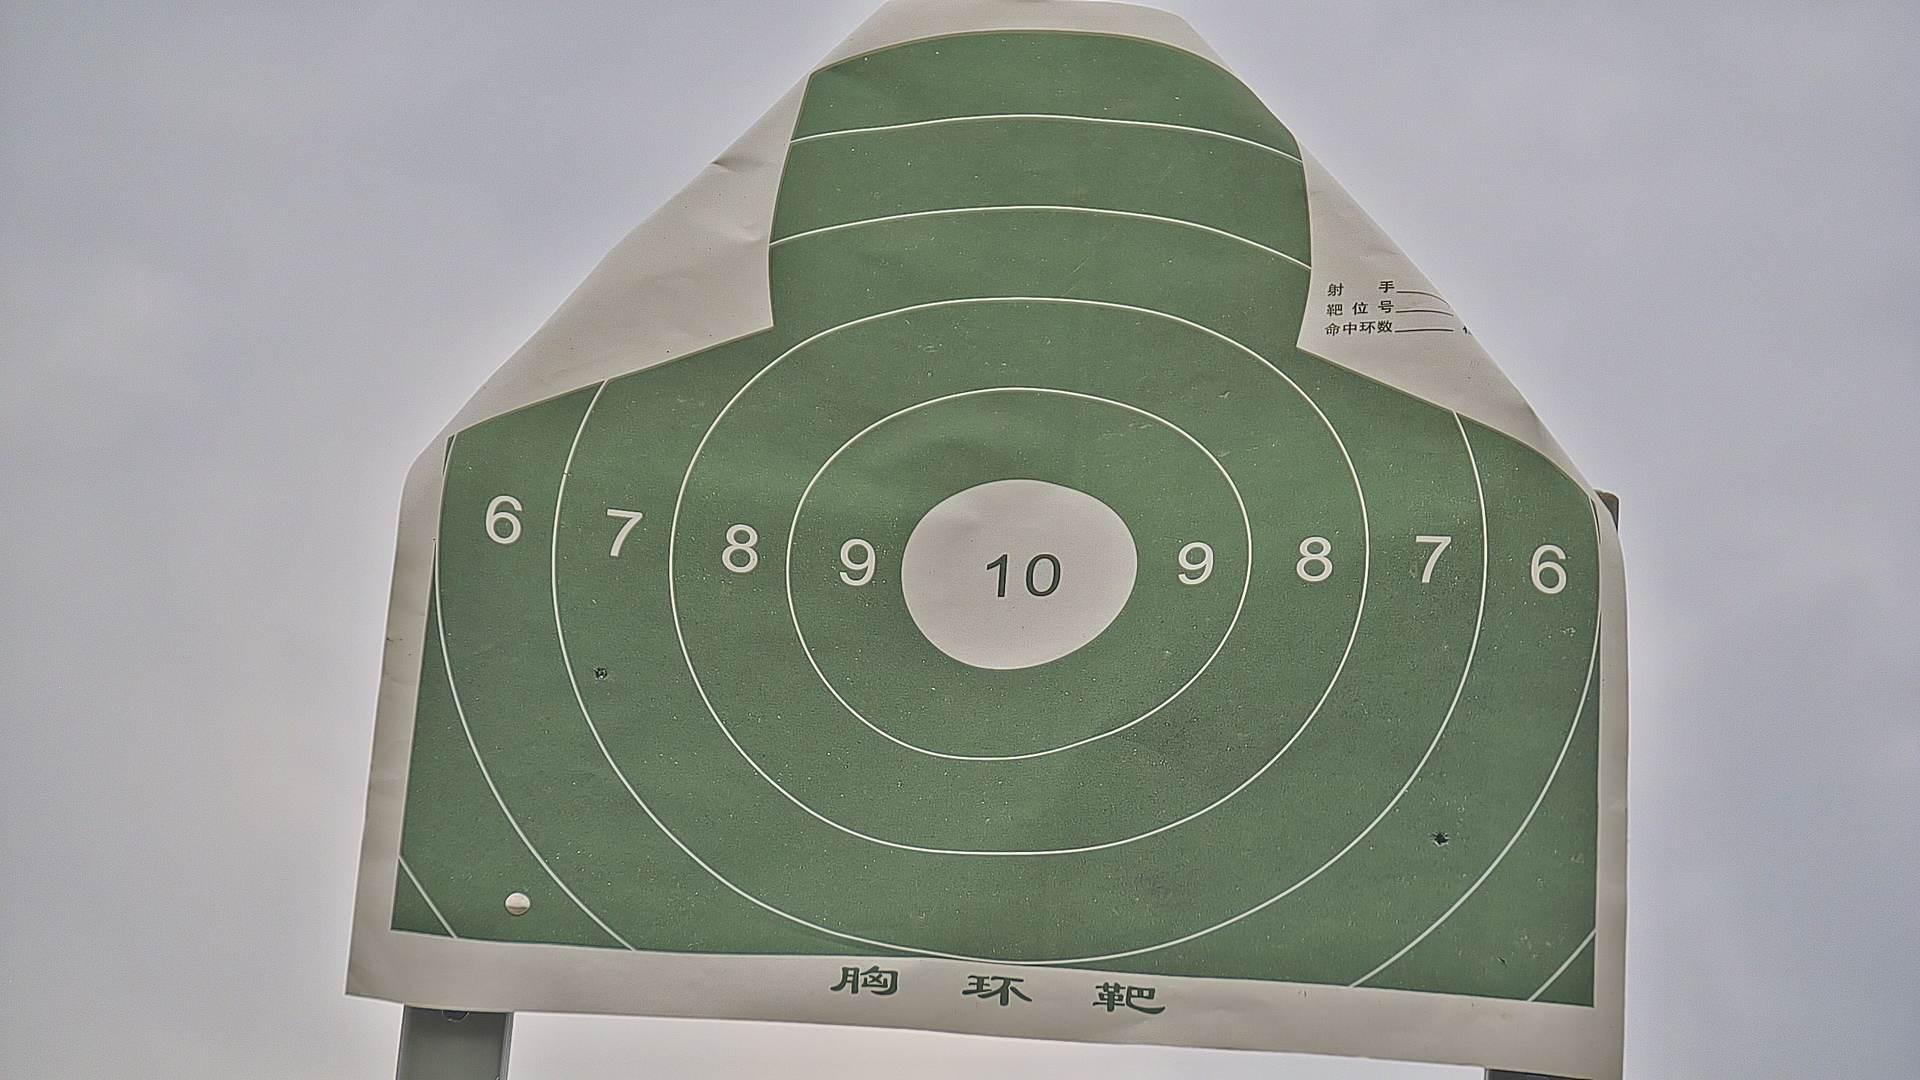hole: (1432, 831, 1447, 845), (592, 663, 607, 676)
kernel: (1015, 572, 1021, 579)
target: (375, 32, 1606, 1014)
ten: (901, 480, 1137, 673)
